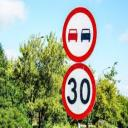speed_limit_30: (62, 62, 99, 120)
